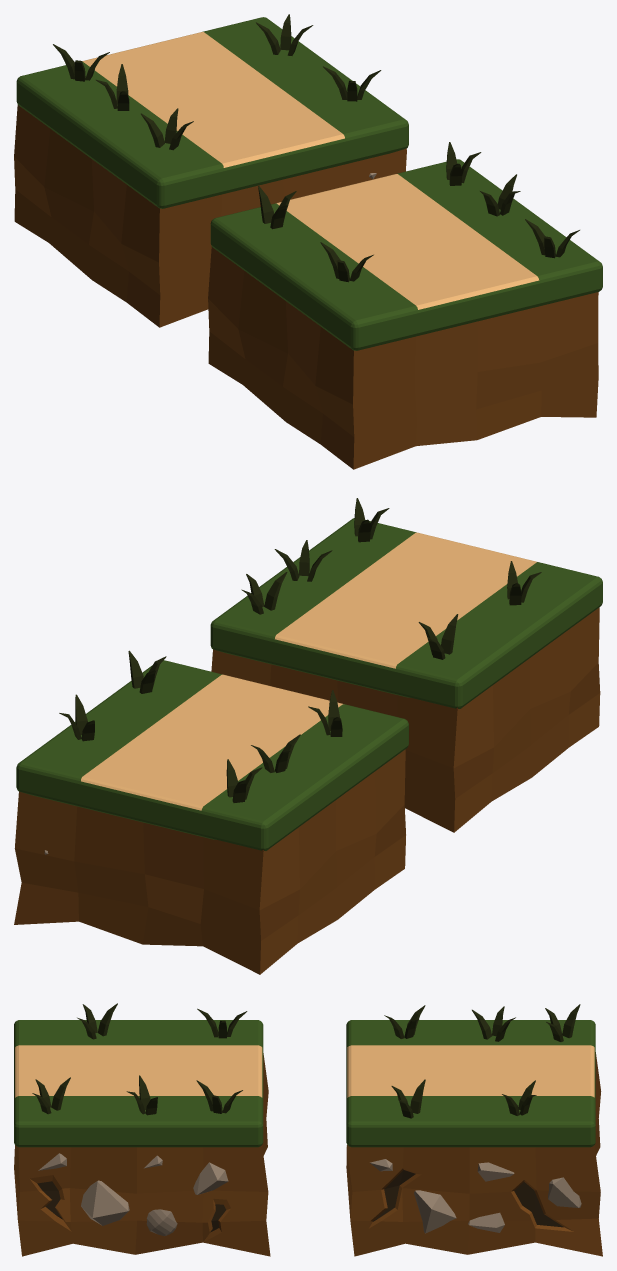
File: tile_fase1.fbx
3 renders of one model, top to bottom at view 1: azimuth 30°, elevation 25°; view 2: azimuth 150°, elevation 25°; view 3: azimuth 270°, elevation 25°, orthographic. The views are drawn at different scales.
Visible parts, largest first — view 1: Tile 1, Tile 2; view 2: Tile 2, Tile 1; view 3: Tile 2, Tile 1.
Part boxes in pixels (x1,y1,x2,y2): Tile 1: (208,142,602,469); Tile 2: (14,14,408,327); Tile 2: (14,650,408,974); Tile 1: (210,498,602,832); Tile 2: (346,1004,602,1256); Tile 1: (14,1003,270,1256).
Bounding box in the file's own units: 427 × 295 × 976.
Materials: 2 (2 with a texture image).
